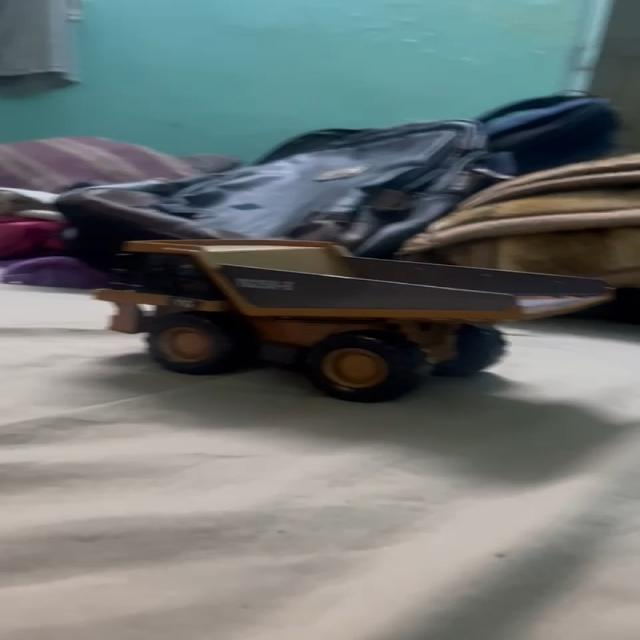dump_truck: (111, 235, 614, 394)
